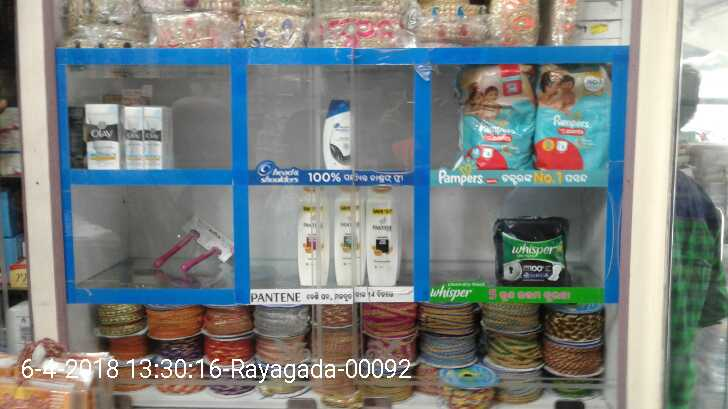venus: (147, 217, 230, 277)
